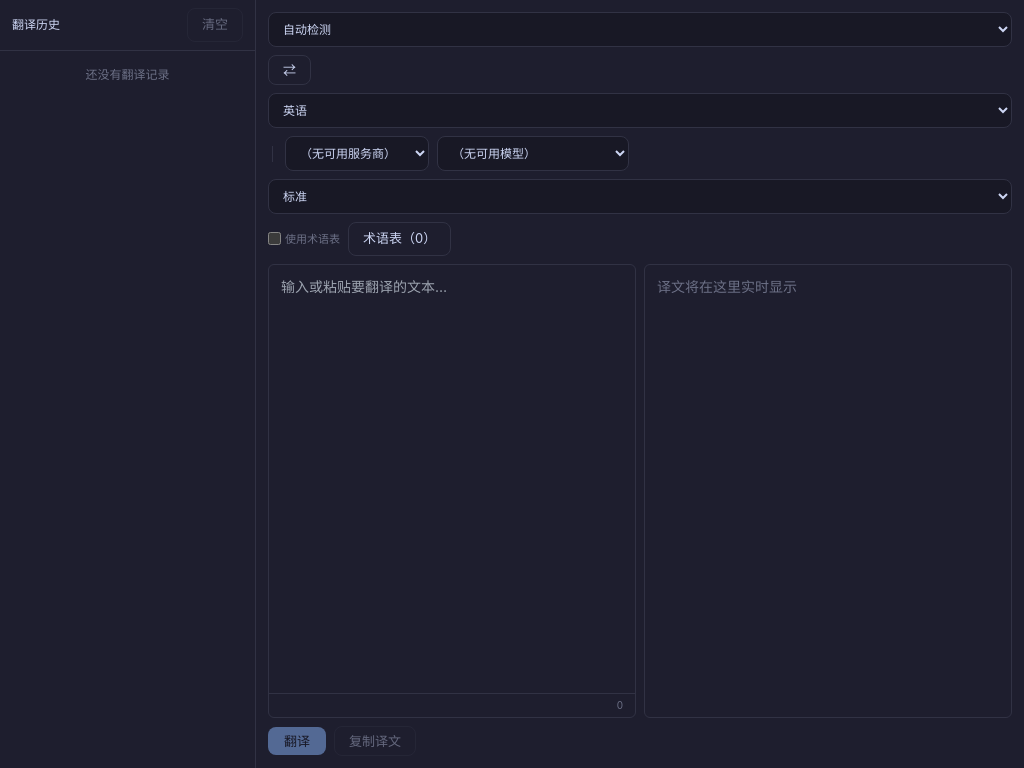
失败路径：输入必须留住（注释承诺的那件事现在真的成立） › zod 自定义文案的失败 ⇒ 两个框仍是用户打的那两个词、列表不多出假词条、toast 逐字给那句中文
Click the button "术语表（0）": coordinates (400, 239) [348, 222, 451, 256]
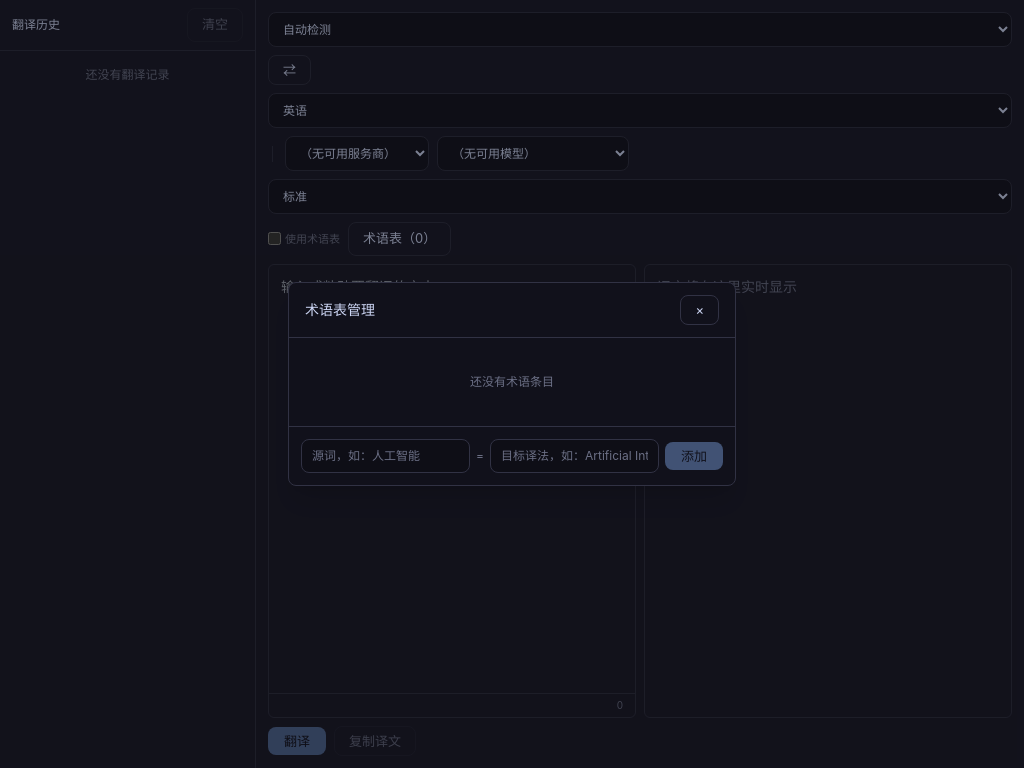
In the field with placeholder "源词，如：人工智能": coordinates (386, 456) [301, 439, 470, 473], type "人工智能"
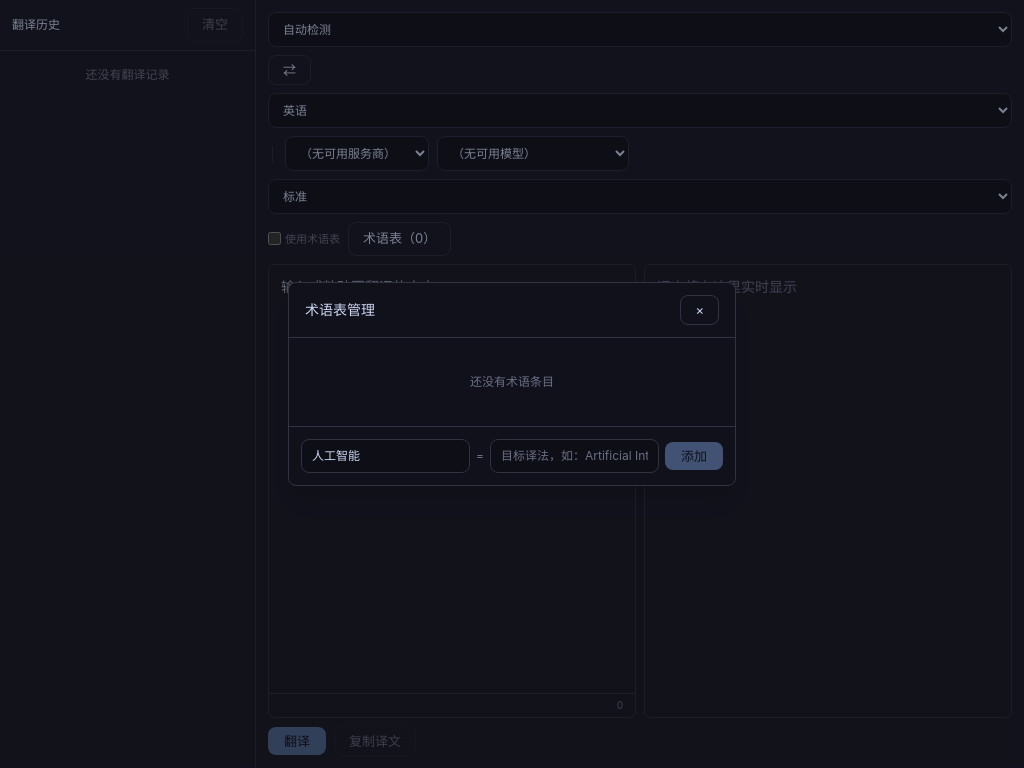
In the field with placeholder "目标译法，如：Artificial Intelligence": coordinates (574, 456) [490, 439, 659, 473], type "AI"
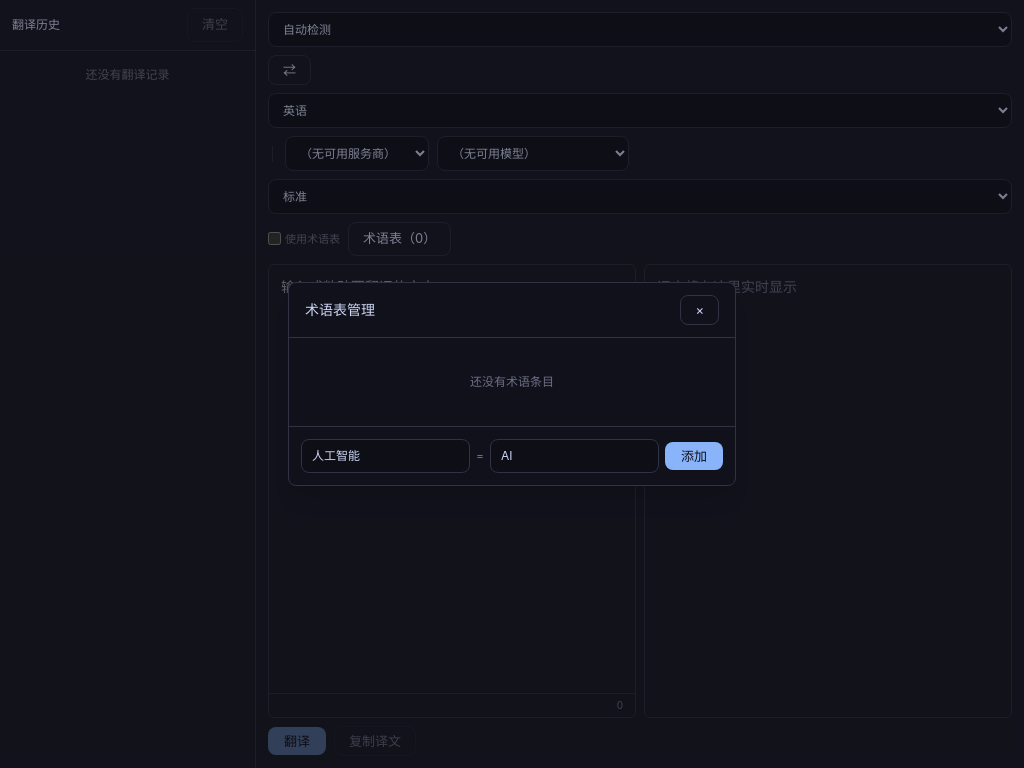
Click the button "添加": coordinates (694, 456) [665, 442, 723, 470]
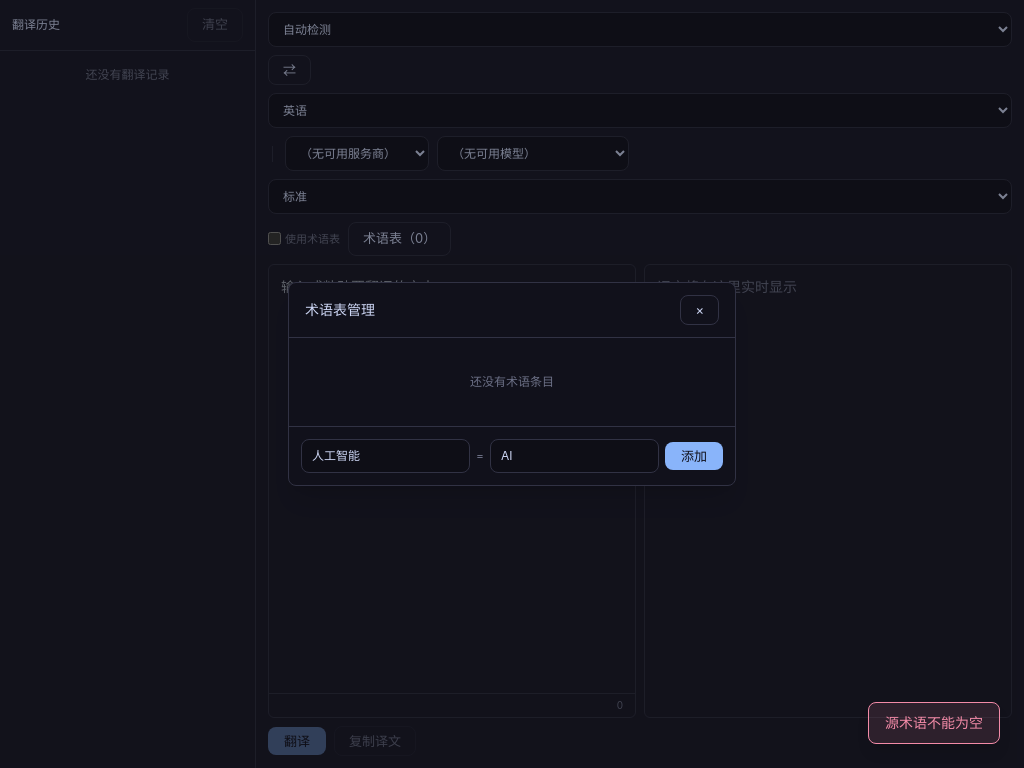
Now the text "还没有术语条目" is shown, box [470, 374, 554, 389]
Now the message reads "源术语不能为空", box [885, 714, 983, 731]
